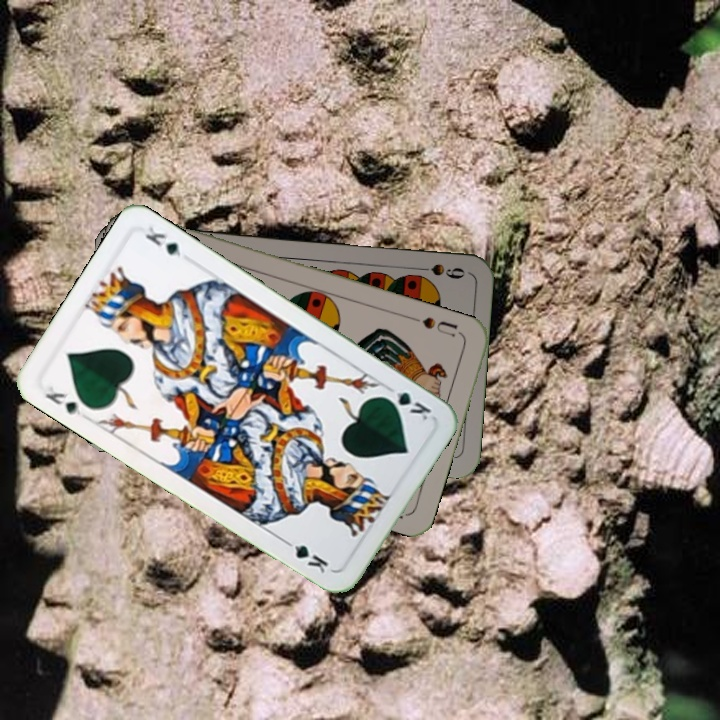GK: (378, 382, 434, 423), (41, 381, 85, 418)
S9: (409, 259, 467, 281)
SU: (407, 312, 460, 340)
